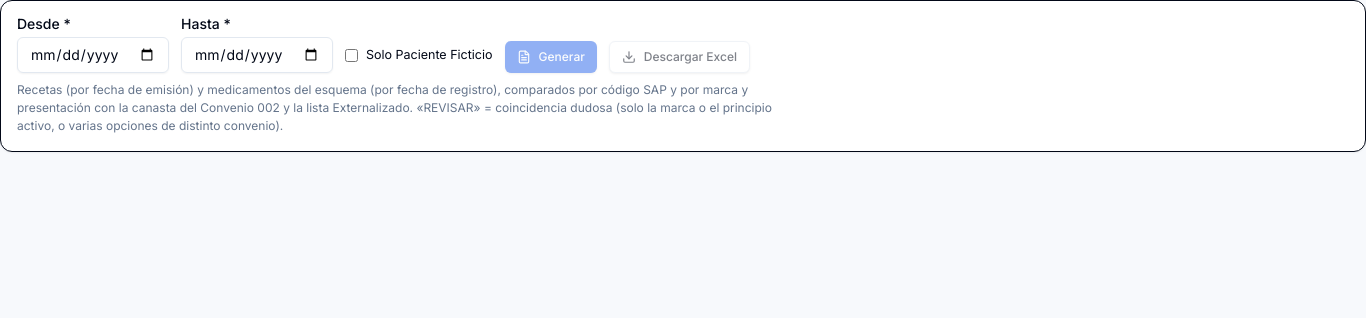
ExternalizadoReporte › puede acotarse al paciente elegido
Type "2031-05-01" into the date field labelled "Desde *" at (93, 55), box x1=17 y1=37 x2=169 y2=73
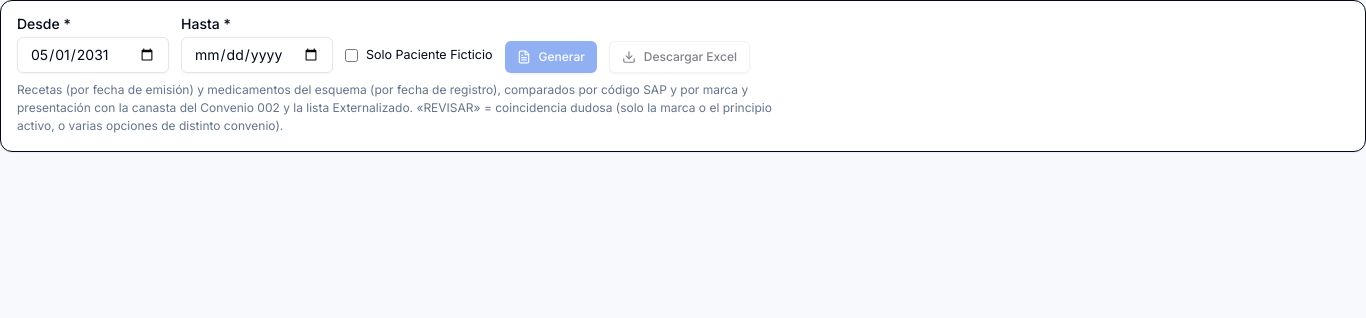
Type "2031-05-31" into the date field labelled "Hasta *" at (257, 55), box x1=181 y1=37 x2=333 y2=73
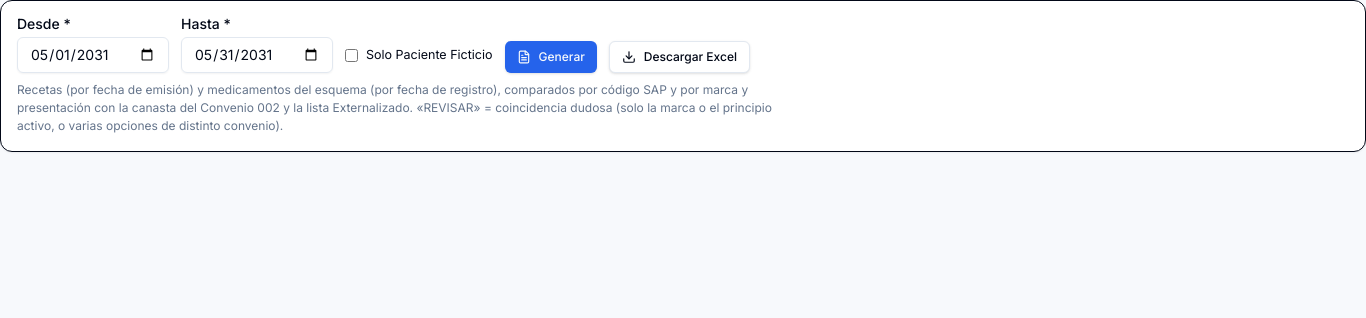
Click the checkbox with test id "ext-solo-paciente" at (352, 55), box x1=345 y1=48 x2=358 y2=62
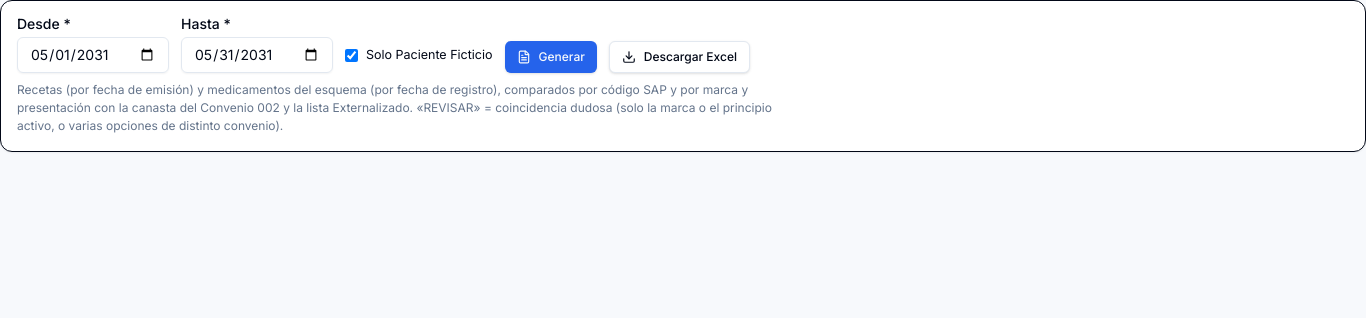
Click the button with test id "btn-generar-externalizado" at (551, 57), box x1=504 y1=41 x2=597 y2=73
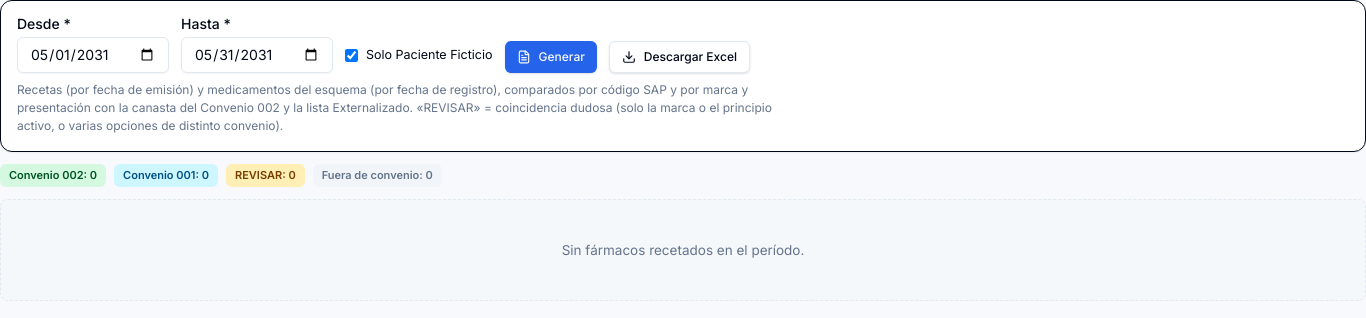
Now the text "Sin fármacos recetados en el período." is shown, box x1=562 y1=242 x2=804 y2=258
